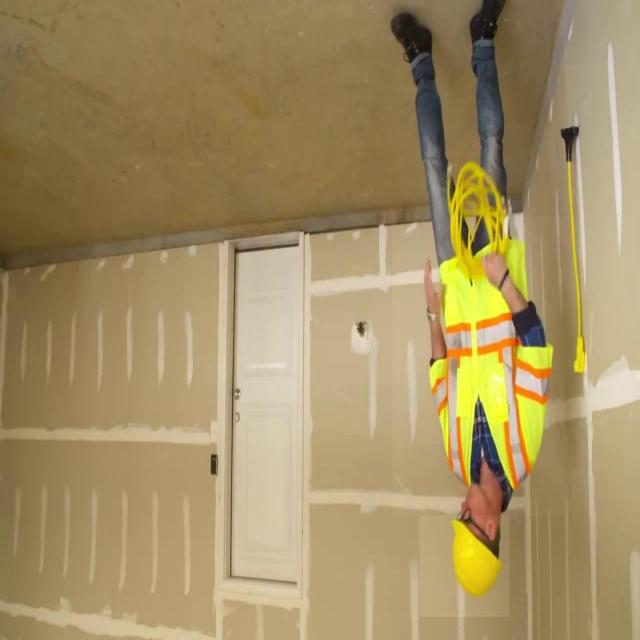Helmet: (420, 501, 510, 617)
Safety Vest: (393, 216, 565, 516)
